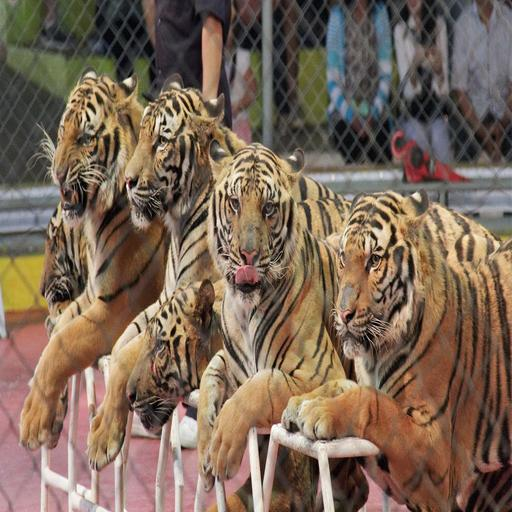Tiger: (18, 76, 442, 512), (82, 75, 492, 486), (186, 136, 512, 493), (29, 167, 384, 476), (282, 185, 512, 512)
